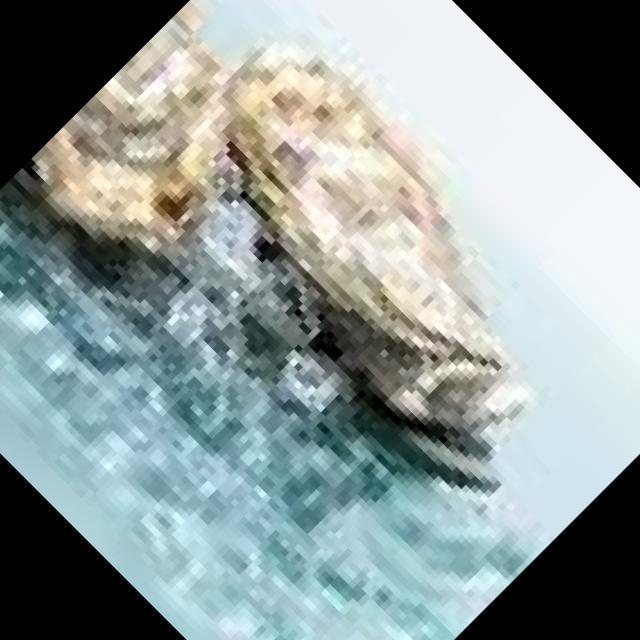Oyster- Indeterminate: (28, 0, 242, 261)
Oyster-Closed: (224, 44, 530, 474)
